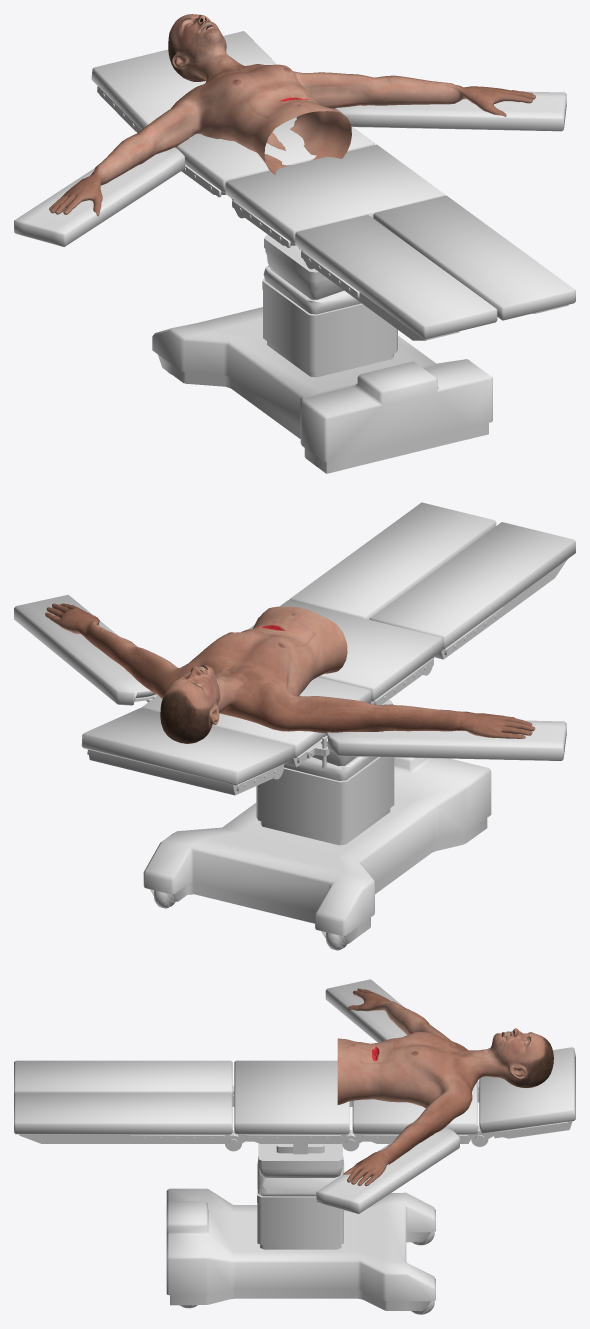
Rendered from patient.fbx.
3 renders of one model, top to bottom at view 1: azimuth 30°, elevation 25°; view 2: azimuth 150°, elevation 25°; view 3: azimuth 270°, elevation 25°, orthographic. The views are drawn at different scales.
Visible parts, largest first — view 1: Surgical_bed, Patient; view 2: Surgical_bed, Patient; view 3: Surgical_bed, Patient.
Boxes of the visible parts, <box> form: Surgical_bed: <box>14,31,575,473</box>; Patient: <box>49,14,535,216</box>; Surgical_bed: <box>14,502,575,950</box>; Patient: <box>45,603,535,743</box>; Surgical_bed: <box>14,979,575,1314</box>; Patient: <box>337,988,553,1186</box>.
Size of the model in its own units: 192 by 100 by 204.
